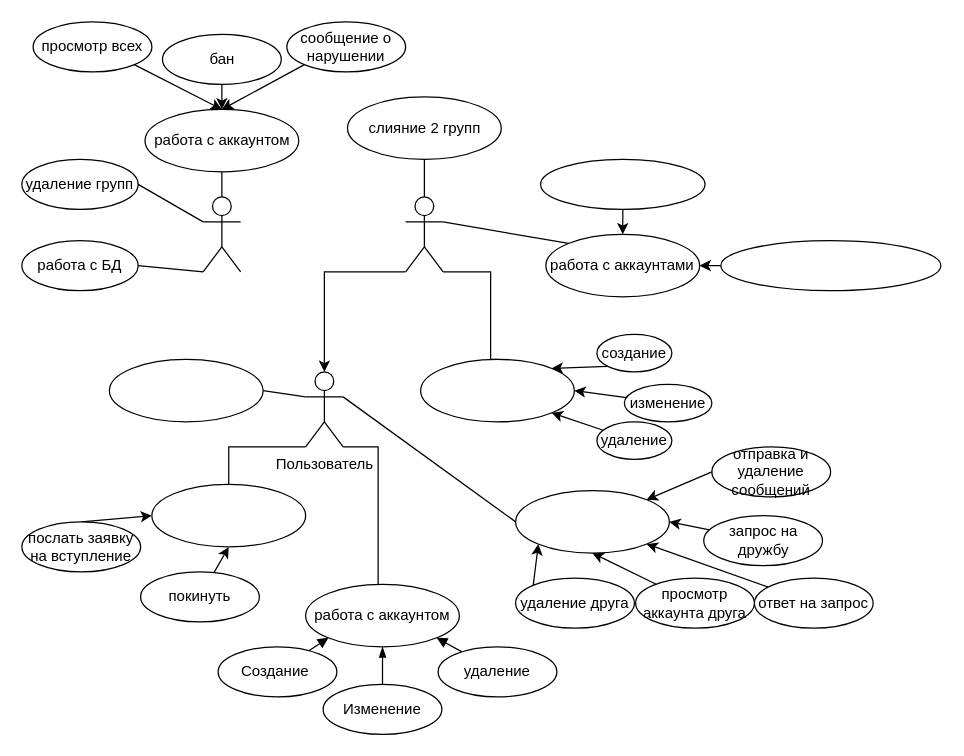
Some shapes in this 964 by 756 pixel diagram are drawn without their labels. The box of each missing label's shape, as (x1, y1, x2, y2) in pixels:
Администратор: (202, 196, 241, 272)
бан учасника группы: (539, 158, 705, 209)
взаимодействие с группами: (151, 483, 306, 547)
добавление по заявке или приглашение учасника: (720, 239, 941, 291)
Пользователь/ Админ: (404, 196, 443, 272)
работа с чужими аккаунтами: (514, 489, 669, 553)
работа со своей группой: (419, 358, 574, 422)
создавать и удалять пометки: (108, 358, 263, 422)
